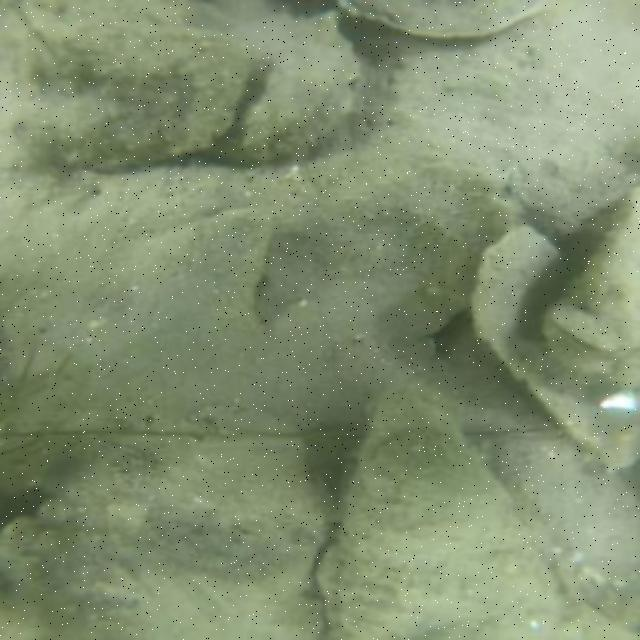Oyster-Closed: (0, 430, 328, 638), (329, 408, 559, 638), (474, 227, 638, 471), (9, 1, 248, 167), (240, 30, 355, 161), (550, 188, 638, 358), (335, 0, 567, 40)
